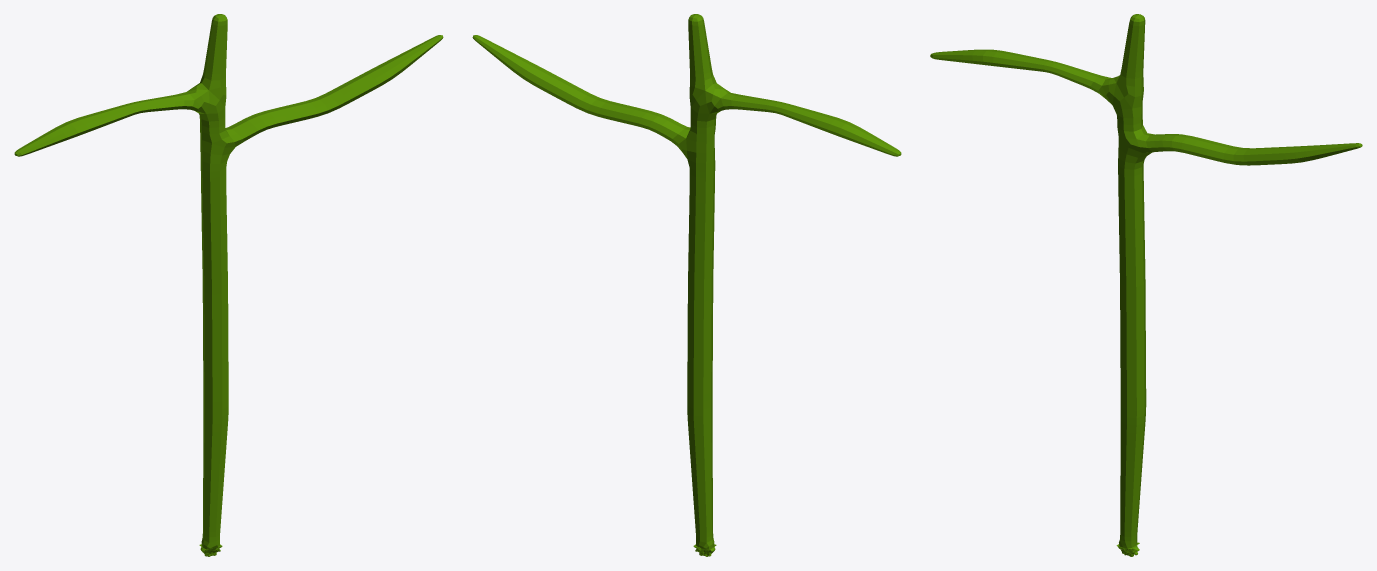
File: stem.gltf
3 views of the same model, side by side, from view 1: azimuth 30°, elevation 25°; view 2: azimuth 150°, elevation 25°; view 3: azimuth 330°, elevation 25° (orthographic).
Visible parts, largest first — view 1: Cube.002; view 2: Cube.002; view 3: Cube.002.
Boxes of the visible parts, x1,y1,x2,y2 form: Cube.002: (14, 14, 443, 556); Cube.002: (472, 14, 901, 556); Cube.002: (930, 14, 1362, 556).
Size of the model in its own units: 2.39 by 2.88 by 0.1307.
